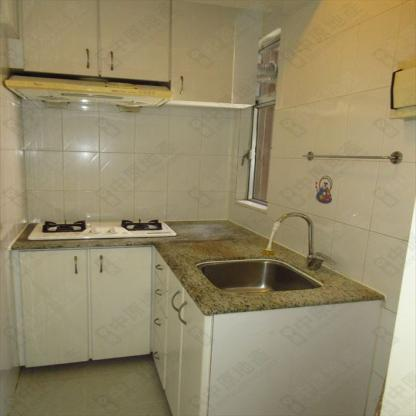Cupboard: (14, 243, 206, 414), (22, 0, 236, 103)
Exhaust Hood: (3, 73, 174, 112)
Faucet: (269, 210, 326, 268)
Sink: (198, 257, 323, 295)
Stove: (28, 217, 176, 240)
